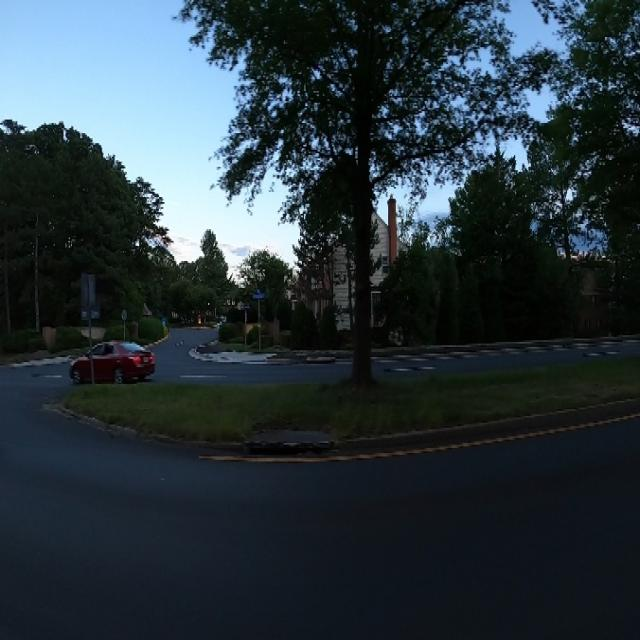cars: (71, 331, 156, 388)
